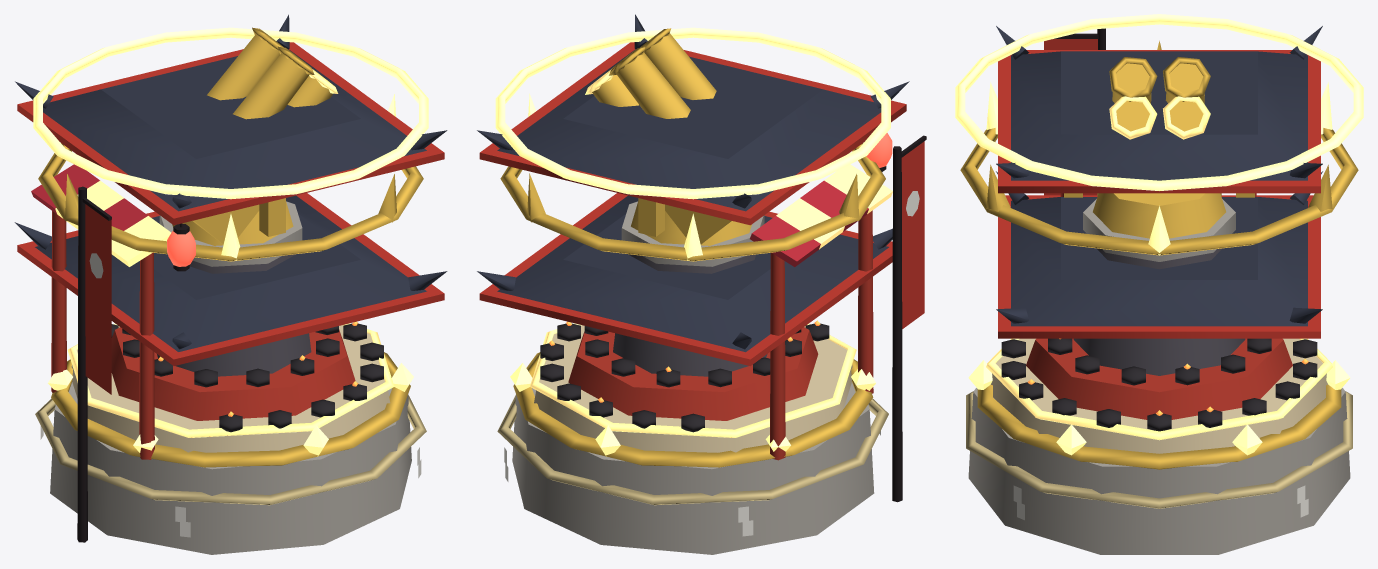
The model's file is tower_mine_carpet_ultimate.glb.
3 renders of one model, left to right at view 1: azimuth 30°, elevation 25°; view 2: azimuth 150°, elevation 25°; view 3: azimuth 270°, elevation 25°, orthographic. The views are drawn at different scales.
Parts seen in each view (by area): view 1: deco_eave_0_roof, base, deco_eave_1_roof, stall_tier_high, ult_halo, stall_tier_low, deco_eave_0_rim, deco_eave_1_rim, ult_ring, ult_crown_band, deco_shimenawa_rope, deco_nobori_cloth (+19 smaller); view 2: deco_eave_0_roof, base, deco_eave_1_roof, stall_tier_high, ult_halo, stall_tier_low, deco_eave_1_rim, deco_eave_0_rim, ult_ring, ult_crown_band, deco_shimenawa_rope, deco_nobori_cloth (+18 smaller); view 3: deco_eave_0_roof, base, deco_eave_1_roof, stall_tier_high, ult_halo, stall_tier_low, deco_eave_1_rim, ult_crown_band, deco_eave_0_rim, ult_ring, launcher_drum, deco_shimenawa_rope (+19 smaller).
Part boxes in pixels (bbox=[...]): deco_eave_0_roof: bbox=[43, 49, 426, 211]; base: bbox=[50, 382, 411, 554]; deco_eave_1_roof: bbox=[35, 195, 426, 351]; stall_tier_high: bbox=[111, 327, 355, 420]; ult_halo: bbox=[33, 27, 428, 199]; stall_tier_low: bbox=[71, 325, 390, 452]; deco_eave_0_rim: bbox=[17, 42, 444, 225]; deco_eave_1_rim: bbox=[17, 193, 444, 365]; ult_ring: bbox=[51, 352, 410, 467]; ult_crown_band: bbox=[38, 143, 423, 261]; deco_shimenawa_rope: bbox=[35, 395, 426, 505]; deco_nobori_cloth: bbox=[85, 204, 111, 394]; deco_eave_0_roof: bbox=[497, 49, 881, 211]; base: bbox=[512, 382, 874, 554]; deco_eave_1_roof: bbox=[497, 195, 888, 352]; stall_tier_high: bbox=[568, 327, 818, 420]; ult_halo: bbox=[495, 27, 890, 199]; stall_tier_low: bbox=[534, 325, 852, 452]; deco_eave_1_rim: bbox=[479, 193, 892, 366]; deco_eave_0_rim: bbox=[479, 42, 906, 225]; ult_ring: bbox=[513, 352, 873, 467]; ult_crown_band: bbox=[500, 143, 885, 261]; deco_shimenawa_rope: bbox=[497, 395, 888, 505]; deco_nobori_cloth: bbox=[901, 141, 924, 328]; deco_eave_0_roof: bbox=[1011, 51, 1307, 180]; base: bbox=[968, 388, 1350, 554]; deco_eave_1_roof: bbox=[1011, 197, 1307, 326]; stall_tier_high: bbox=[1026, 338, 1292, 419]; ult_halo: bbox=[955, 14, 1363, 190]; stall_tier_low: bbox=[991, 338, 1327, 453]; deco_eave_1_rim: bbox=[998, 195, 1320, 338]; ult_crown_band: bbox=[960, 128, 1358, 255]; deco_eave_0_rim: bbox=[998, 50, 1320, 193]; ult_ring: bbox=[977, 384, 1341, 469]; launcher_drum: bbox=[1073, 248, 1245, 375]; deco_shimenawa_rope: bbox=[966, 391, 1352, 508].
Size of the model in its own units: 0.4427 by 0.5095 by 0.4274.
